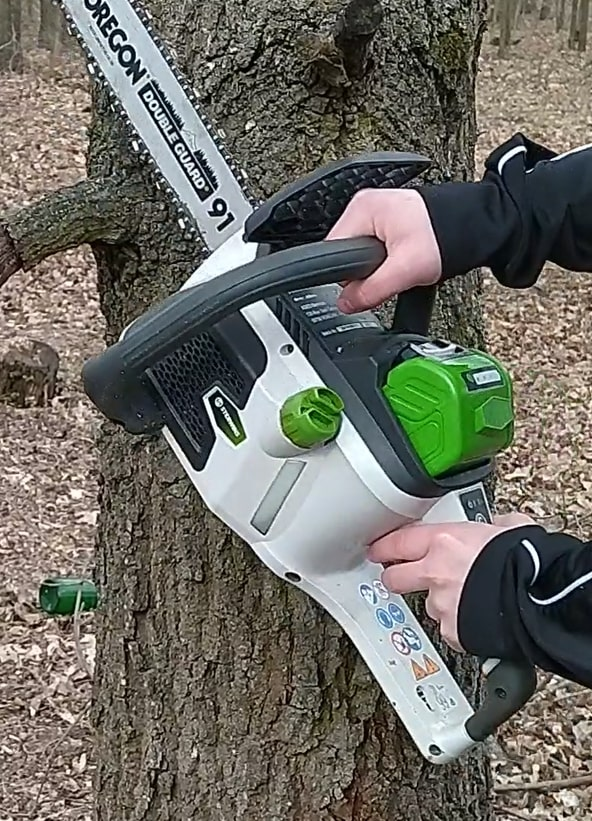chainsaw: (48, 2, 560, 766)
